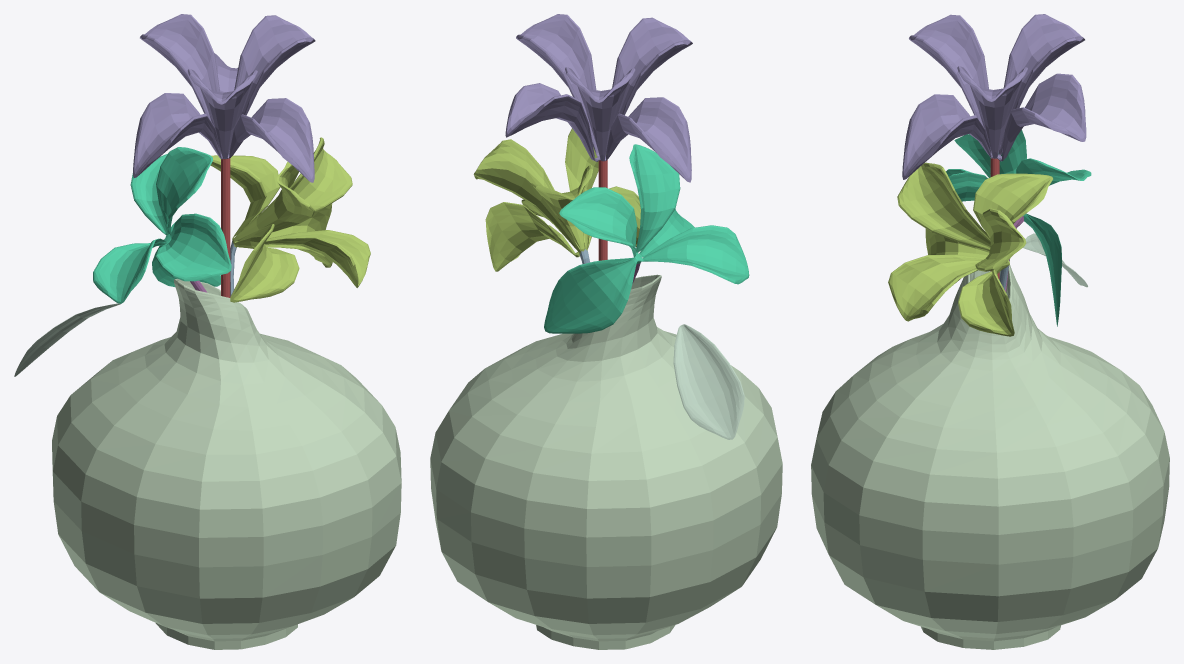
3 views of the same model, side by side, from view 1: azimuth 30°, elevation 25°; view 2: azimuth 150°, elevation 25°; view 3: azimuth 270°, elevation 25° (orthographic).
Visible parts, largest first — view 1: world; view 2: world; view 3: world.
Part boxes in pixels (<box>): world: <box>14,14,401,649</box>; world: <box>430,14,782,649</box>; world: <box>811,14,1169,649</box>.
Bounding box in the file's own units: 0.5816 × 1 × 0.5597.
